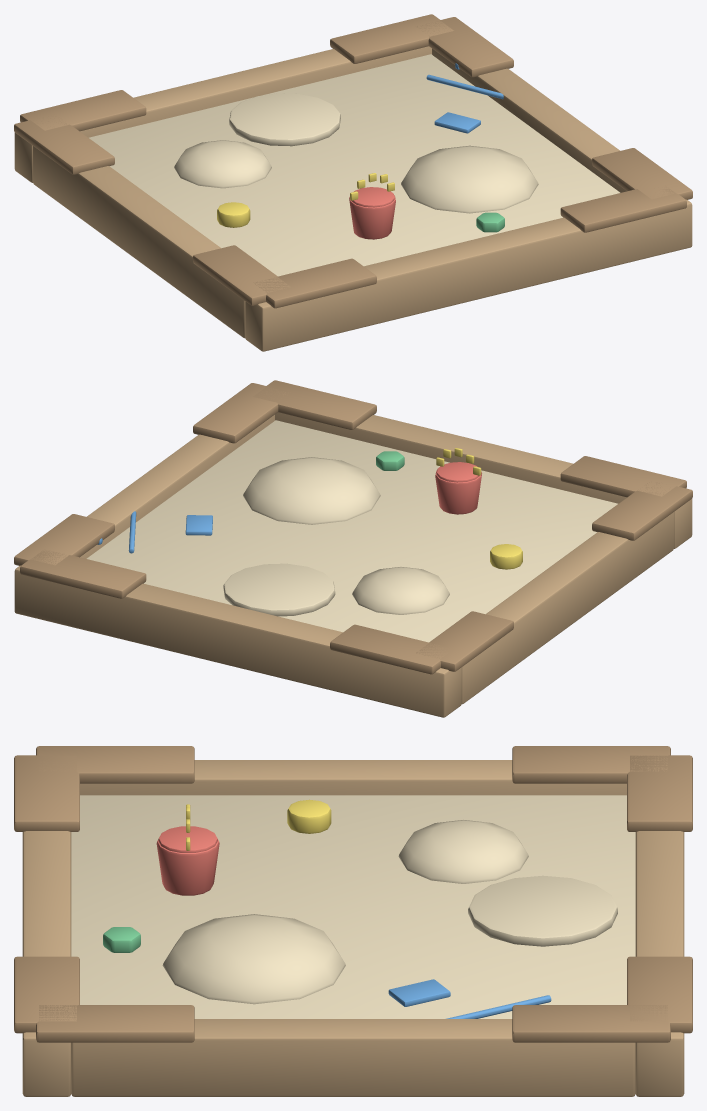
File: th16_sandkasten.glb
3 renders of one model, top to bottom at view 1: azimuth 30°, elevation 25°; view 2: azimuth 150°, elevation 25°; view 3: azimuth 270°, elevation 25°, orthographic. The views are drawn at different scales.
Parts seen in each view (by area): view 1: Cube.012, Cube, Cube.002, Cube.001, Sphere, Cube.003, Cylinder, Sphere.001, Cube.004, Cube.010, Cube.008, Cube.006 (+8 smaller); view 2: Cube.012, Cube.001, Cube.002, Cube, Sphere, Cube.003, Cylinder, Sphere.001, Cube.010, Cube.006, Cube.008, Cube.004 (+8 smaller); view 3: Cube.012, Cube.003, Cube.002, Sphere, Cube, Cube.001, Cylinder, Sphere.001, Cube.009, Cube.011, Cube.007, Cube.006 (+10 smaller).
Boxes of the visible parts, bbox=[...] form: Cube.012: bbox=[89, 54, 620, 276]; Cube: bbox=[245, 199, 692, 351]; Cube.002: bbox=[33, 146, 245, 338]; Cube.001: bbox=[14, 46, 431, 182]; Sphere: bbox=[401, 145, 538, 213]; Cube.003: bbox=[432, 48, 626, 192]; Cylinder: bbox=[229, 93, 340, 146]; Sphere.001: bbox=[174, 140, 271, 188]; Cube.004: bbox=[253, 258, 376, 308]; Cube.010: bbox=[330, 14, 453, 63]; Cube.008: bbox=[560, 187, 686, 232]; Cube.006: bbox=[20, 90, 146, 131]; Cube.012: bbox=[86, 420, 617, 642]; Cube.001: bbox=[14, 565, 461, 717]; Cube.002: bbox=[461, 512, 673, 704]; Cube: bbox=[275, 412, 692, 548]; Sphere: bbox=[243, 457, 380, 524]; Cube.003: bbox=[80, 414, 274, 558]; Cylinder: bbox=[223, 563, 335, 616]; Sphere.001: bbox=[352, 567, 449, 614]; Cube.010: bbox=[20, 550, 146, 598]; Cube.006: bbox=[330, 624, 453, 674]; Cube.008: bbox=[253, 380, 376, 429]; Cube.004: bbox=[560, 456, 686, 497]; Cube.012: bbox=[71, 795, 635, 1018]; Cube.003: bbox=[71, 1019, 635, 1096]; Cube.002: bbox=[80, 760, 626, 795]; Sphere: bbox=[162, 914, 345, 1004]; Cube: bbox=[22, 831, 71, 1096]; Cube.001: bbox=[635, 831, 684, 1096]; Cylinder: bbox=[468, 875, 617, 946]; Sphere.001: bbox=[398, 820, 528, 883]; Cube.009: bbox=[36, 1005, 194, 1042]; Cube.011: bbox=[512, 1005, 670, 1042]; Cube.007: bbox=[512, 746, 670, 783]; Cube.006: bbox=[627, 755, 692, 831].
Bounding box in the file's own units: 3.08 × 0.61 × 3.08.
